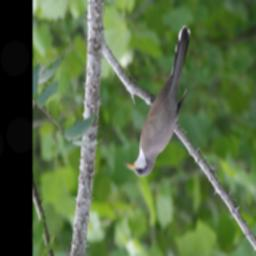Cuckoo: (124, 24, 193, 179)
